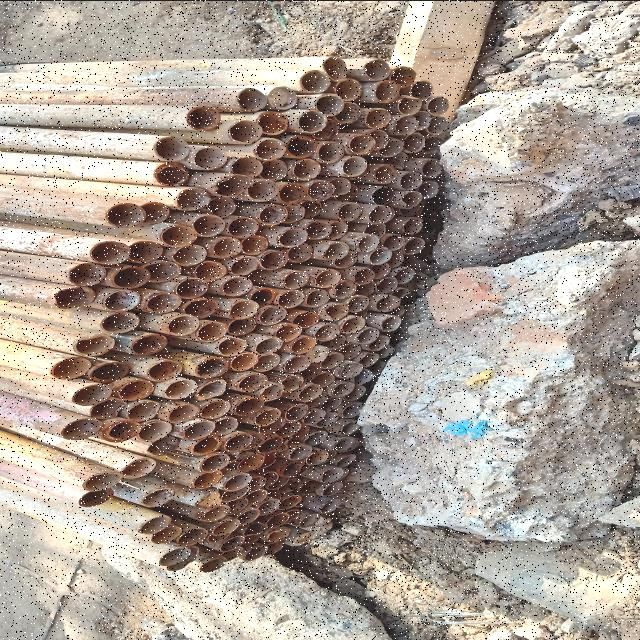pipe: (140, 160, 194, 186), (157, 310, 207, 338), (123, 236, 169, 266), (102, 200, 148, 228), (106, 263, 152, 291), (142, 259, 191, 285), (152, 134, 194, 164), (70, 329, 116, 356), (187, 213, 231, 241), (285, 132, 325, 162), (48, 284, 92, 311), (182, 293, 222, 322), (187, 354, 235, 378), (157, 374, 201, 400), (251, 200, 291, 228), (87, 238, 130, 264), (132, 438, 186, 458), (229, 369, 270, 395), (344, 130, 382, 158), (48, 356, 92, 380), (208, 174, 252, 198), (99, 310, 147, 332), (139, 290, 187, 312), (195, 258, 235, 284), (193, 396, 233, 422), (195, 450, 235, 476), (257, 109, 295, 136), (271, 223, 309, 250), (100, 290, 146, 312), (143, 359, 189, 381), (256, 156, 292, 184), (218, 276, 260, 300), (232, 85, 268, 112), (70, 383, 114, 405), (172, 187, 214, 210), (70, 258, 102, 288), (124, 333, 172, 353), (174, 275, 214, 299), (138, 198, 172, 226), (224, 210, 258, 238), (61, 416, 102, 439), (266, 84, 302, 110), (246, 178, 282, 204), (172, 242, 208, 268), (160, 222, 197, 247), (102, 422, 144, 444), (185, 469, 229, 490), (319, 238, 357, 262), (186, 104, 220, 130), (160, 402, 202, 423), (207, 516, 247, 538), (88, 359, 126, 382), (116, 459, 162, 478), (243, 284, 281, 307), (228, 119, 264, 143), (138, 488, 181, 508), (239, 233, 273, 258), (78, 487, 118, 508), (114, 378, 156, 398), (299, 108, 331, 134), (324, 217, 356, 243), (394, 168, 428, 192), (228, 251, 262, 275), (223, 316, 260, 338), (334, 97, 364, 124), (210, 235, 240, 262), (363, 105, 395, 130), (82, 470, 120, 491), (306, 266, 342, 288), (196, 318, 229, 342), (288, 158, 322, 181), (214, 334, 248, 357), (318, 136, 348, 162), (299, 69, 331, 93), (182, 421, 218, 442), (319, 54, 348, 80), (370, 79, 400, 104), (300, 285, 330, 310), (193, 146, 227, 168), (276, 200, 308, 223), (190, 491, 233, 508), (314, 92, 344, 116), (255, 137, 285, 161), (207, 194, 237, 218), (198, 504, 234, 524), (338, 157, 372, 178), (222, 469, 256, 490), (228, 298, 260, 320), (249, 350, 281, 372), (273, 417, 305, 439), (254, 435, 286, 457), (280, 180, 308, 205), (197, 375, 227, 398), (222, 430, 252, 453), (184, 434, 222, 452), (124, 401, 164, 418), (208, 418, 242, 438), (337, 199, 365, 223), (142, 420, 174, 441), (362, 58, 392, 80), (138, 514, 171, 534), (338, 80, 368, 102), (148, 525, 182, 544), (307, 370, 339, 390), (290, 308, 320, 329), (256, 304, 286, 325), (228, 350, 258, 371), (232, 394, 262, 415), (239, 486, 270, 506), (306, 178, 334, 200), (158, 547, 192, 565), (352, 266, 382, 286), (254, 336, 284, 356), (260, 384, 290, 404), (287, 242, 316, 262), (281, 270, 313, 288), (177, 524, 204, 545), (390, 65, 418, 85), (418, 157, 446, 177), (341, 399, 369, 419), (368, 204, 396, 224), (199, 556, 227, 576), (302, 220, 332, 238), (234, 453, 264, 471), (287, 401, 311, 423), (240, 430, 266, 450), (410, 78, 433, 100), (394, 97, 422, 115), (395, 188, 423, 206), (373, 163, 397, 184), (338, 315, 366, 333), (262, 252, 290, 270), (289, 336, 317, 354), (252, 407, 280, 425), (393, 115, 418, 135), (279, 372, 304, 392), (216, 536, 246, 552), (283, 354, 313, 370), (354, 233, 380, 251), (280, 460, 306, 478), (256, 498, 282, 516), (277, 492, 302, 510), (331, 438, 363, 452), (376, 140, 404, 156), (333, 452, 359, 469), (428, 95, 450, 115), (426, 114, 448, 134), (404, 132, 426, 152), (356, 326, 380, 344), (304, 199, 328, 217), (220, 486, 247, 502), (246, 473, 270, 491), (368, 246, 392, 264), (326, 302, 350, 320), (314, 322, 338, 340), (306, 344, 330, 362), (340, 360, 364, 378), (300, 382, 326, 398), (264, 512, 290, 528), (242, 544, 268, 560), (218, 546, 244, 562), (417, 180, 440, 198), (328, 177, 352, 194), (370, 186, 394, 203), (320, 352, 344, 369), (401, 216, 426, 232), (396, 264, 416, 284), (314, 411, 339, 427), (340, 342, 361, 361), (382, 232, 404, 250), (347, 294, 369, 312), (306, 430, 328, 448), (256, 418, 278, 436), (264, 527, 292, 541), (302, 408, 326, 424), (331, 380, 355, 396), (294, 492, 318, 508), (404, 237, 426, 254), (376, 276, 399, 292), (319, 468, 345, 482), (339, 421, 363, 436), (320, 396, 344, 411), (376, 294, 398, 310), (352, 370, 374, 386), (290, 530, 312, 546), (306, 449, 328, 465), (290, 444, 312, 460), (243, 522, 268, 536), (343, 385, 366, 400), (260, 470, 279, 488), (381, 314, 401, 331), (320, 482, 344, 496), (363, 224, 387, 238), (278, 478, 302, 492), (356, 351, 378, 366), (319, 497, 341, 512), (422, 134, 439, 153), (368, 334, 388, 350), (336, 252, 356, 268), (372, 262, 392, 278), (354, 279, 374, 295), (299, 512, 321, 526), (390, 286, 411, 300), (300, 478, 321, 492), (258, 452, 276, 468), (328, 334, 347, 349), (262, 541, 282, 555), (388, 250, 404, 267), (165, 558, 187, 570), (240, 533, 261, 544)
